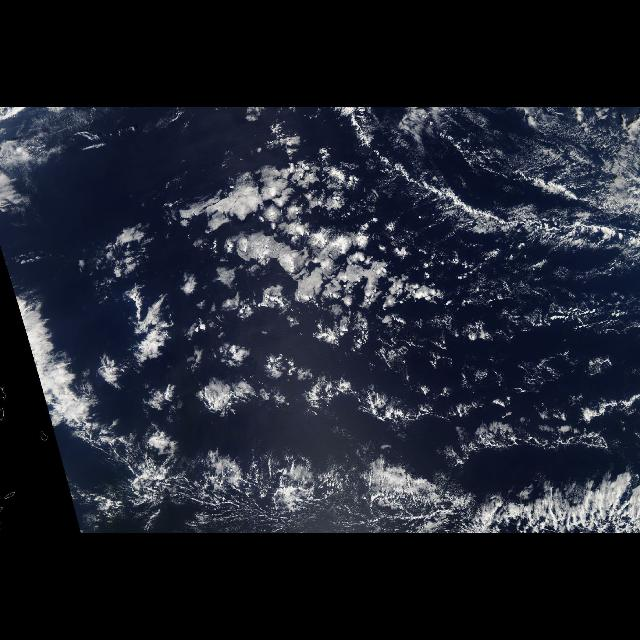Flower: (85, 131, 468, 443)
Sugar: (444, 110, 638, 208)
